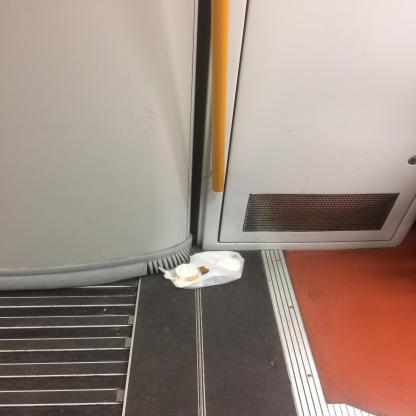plastik: (158, 252, 246, 291), (173, 265, 203, 284)
